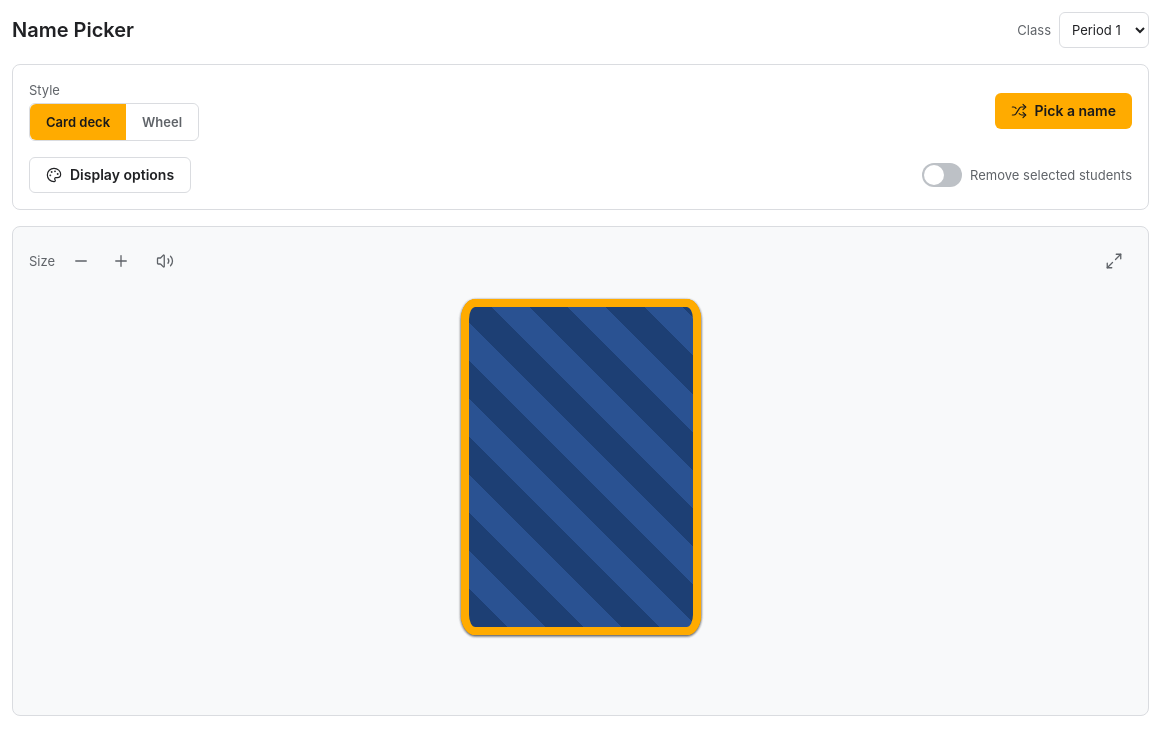
Test case: NamePickerPage › removes selected students only on the next draw, then exhausts the round
Expected: the button "Pick a name" is shown, [995, 93, 1132, 129]
Click the switch named "Remove selected students".
click(942, 175)  # box [922, 163, 962, 187]
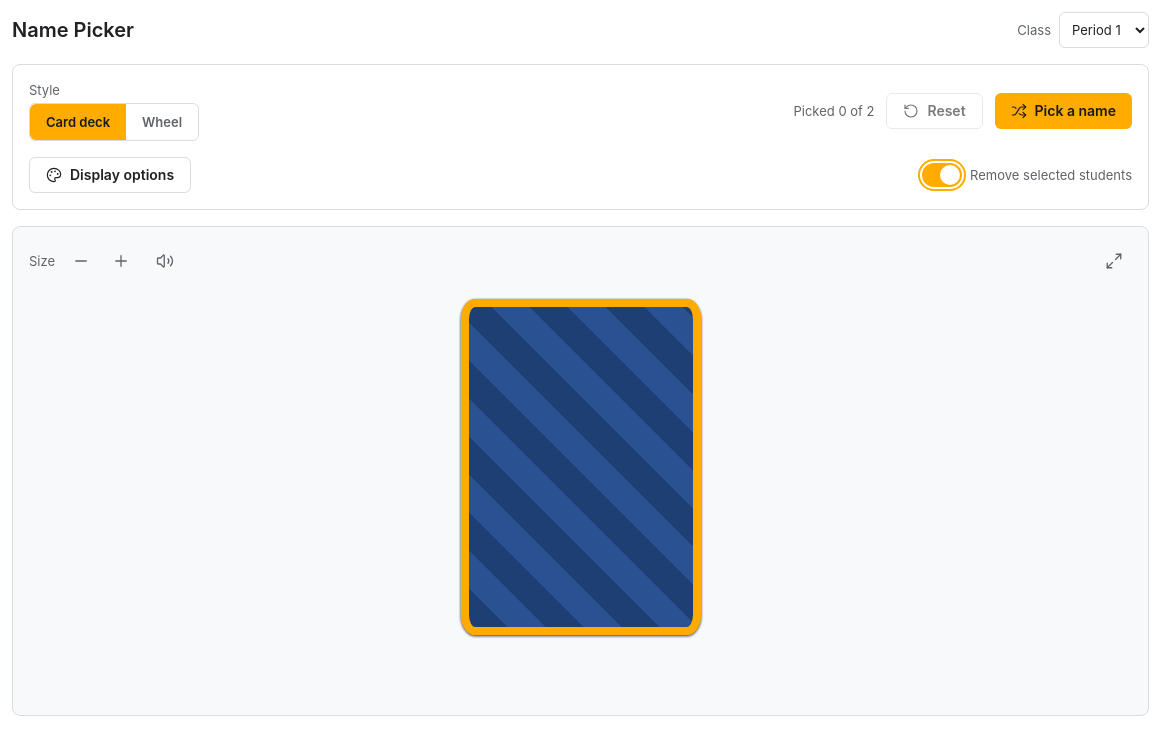
Result: the text "Picked 0 of 2" is shown at [794, 102, 874, 120]
Click the button "Pick a name".
click(1063, 111)  # box [995, 93, 1132, 129]
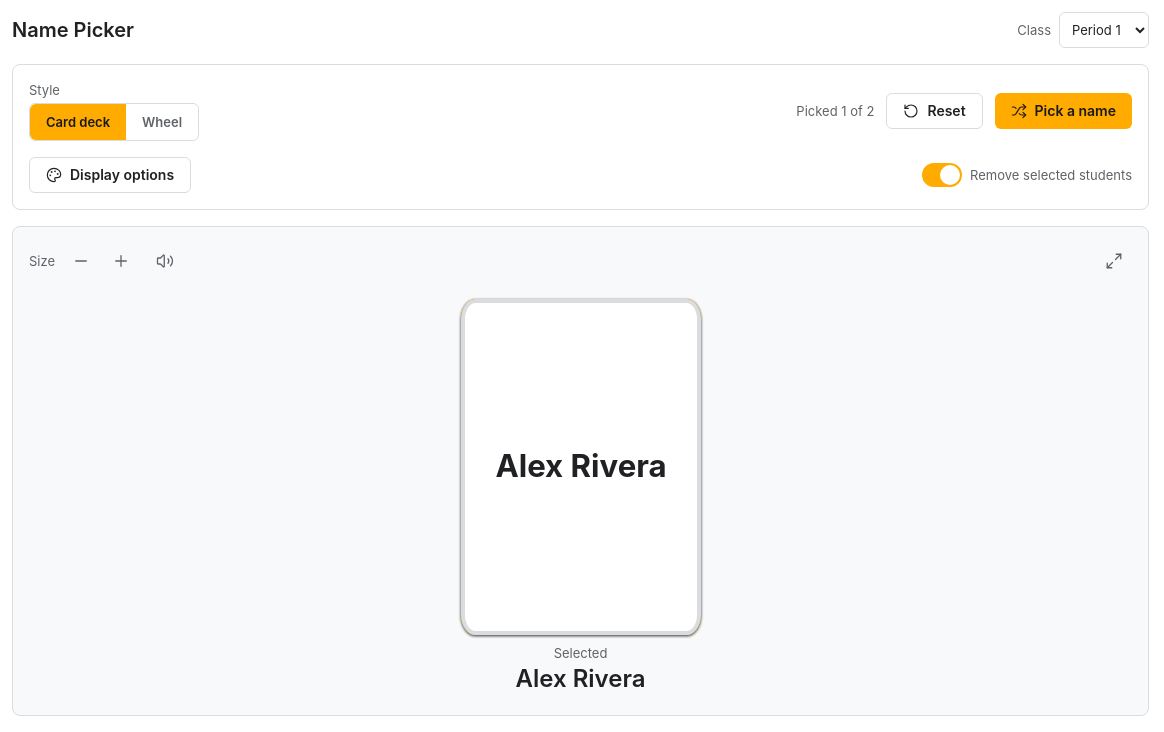
Result: the text "Picked 1 of 2" is shown at [796, 102, 874, 120]
Click the button "Pick a name".
click(1063, 111)  # box [995, 93, 1132, 129]
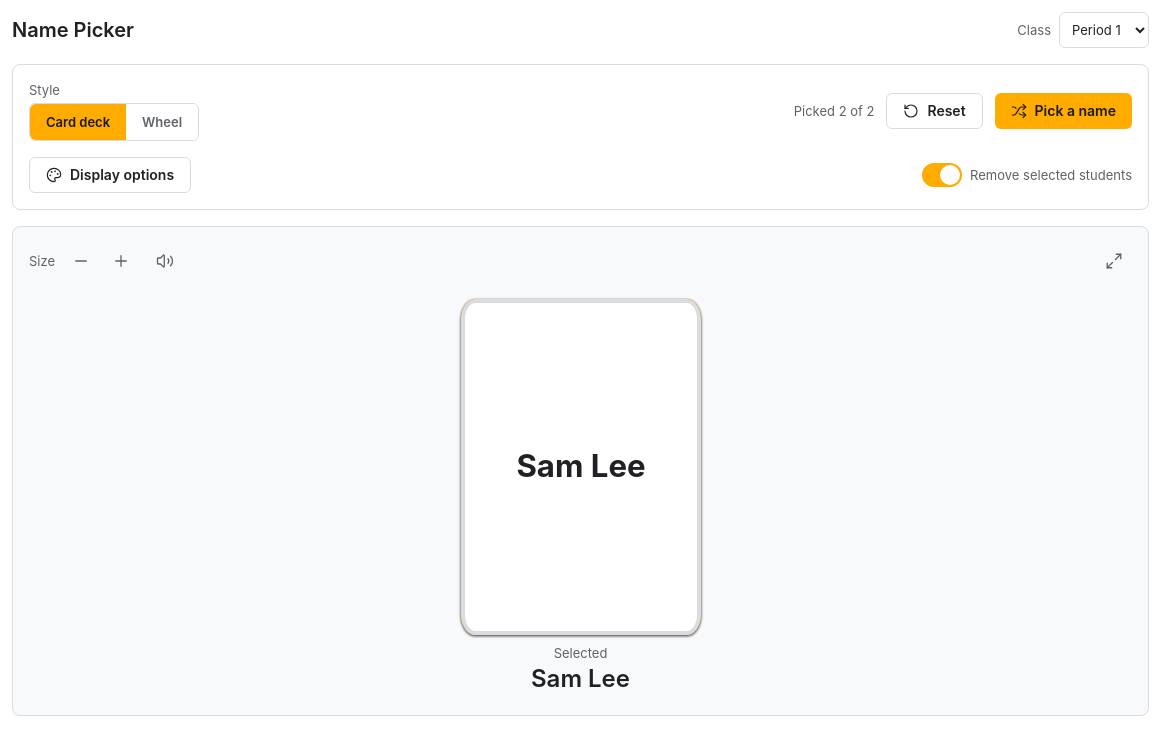
Result: the text "Picked 2 of 2" is shown at [794, 102, 874, 120]
// A third draw commits the last winner, draining the pool.
Click the button "Pick a name".
click(1063, 111)  # box [995, 93, 1132, 129]
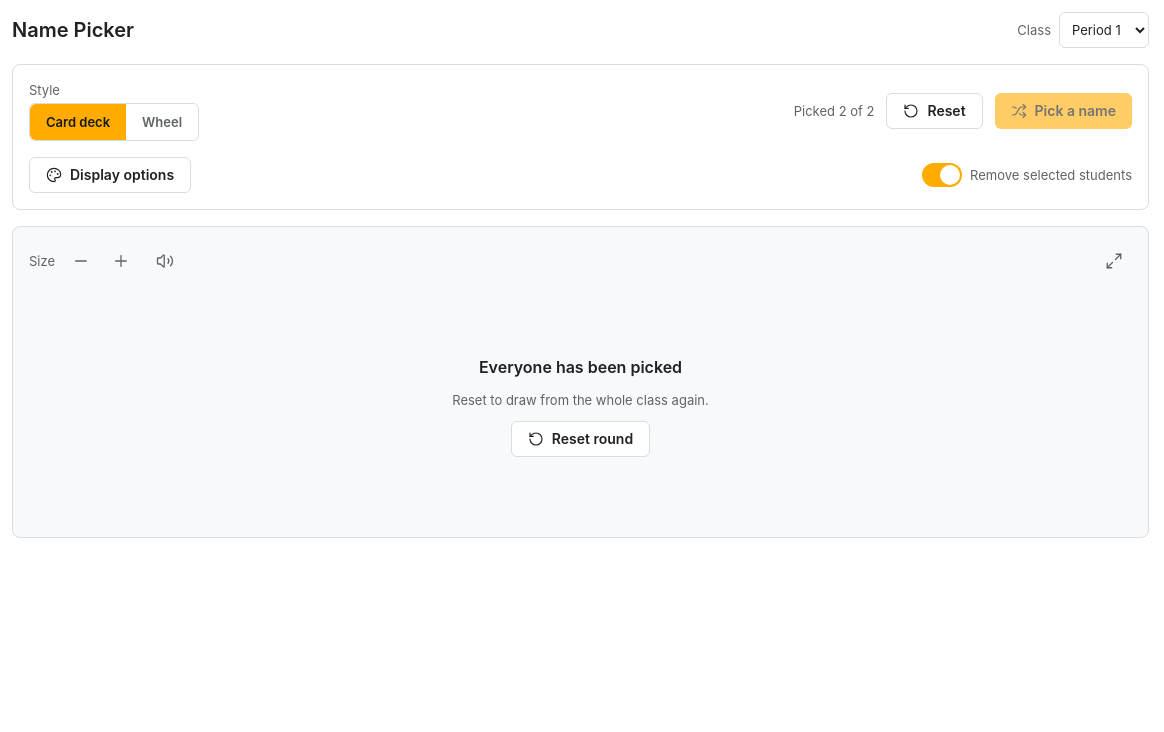
Result: the text "Everyone has been picked" is shown at [479, 355, 682, 379]
// Reset restores the full pool.
Click the button "Reset round".
click(580, 439)  # box [511, 421, 650, 457]
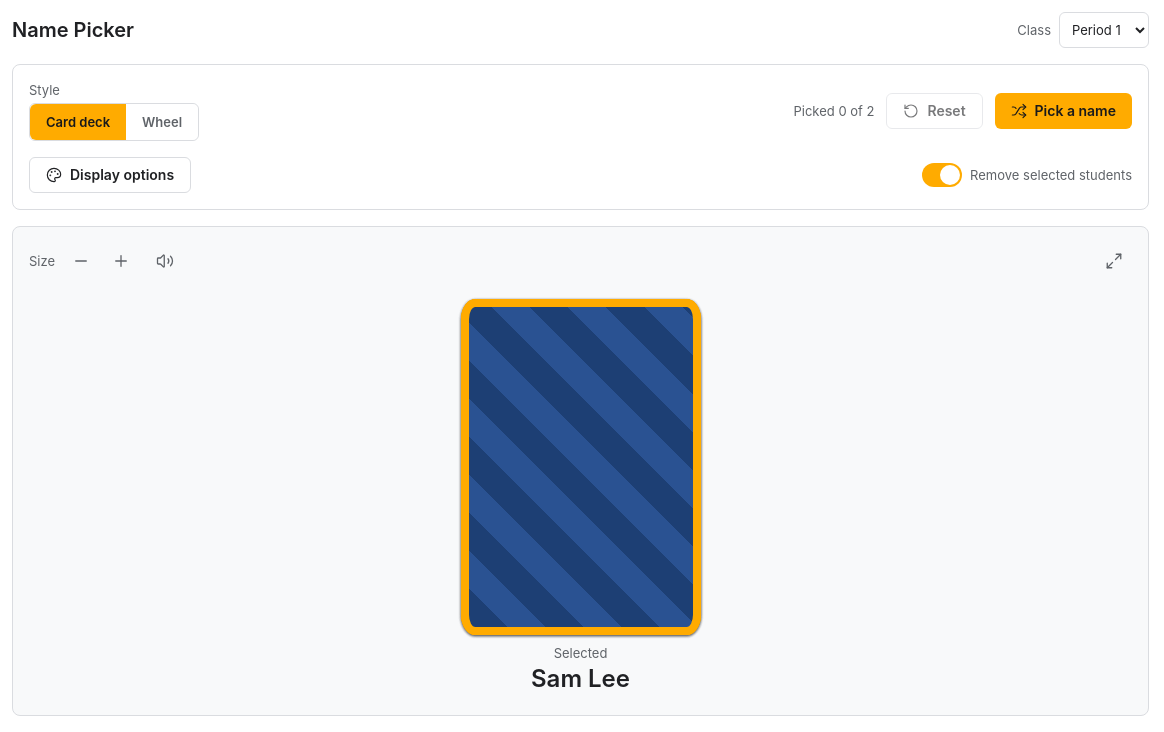
Result: the text "Picked 0 of 2" is shown at [794, 102, 874, 120]
